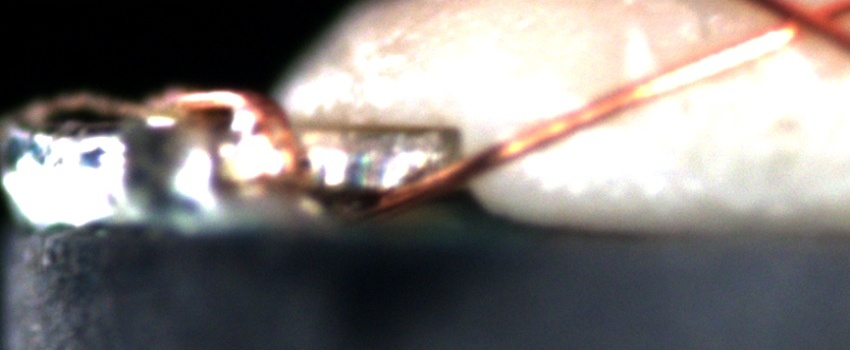CL: (749, 0, 835, 62)
TE: (135, 82, 317, 184)
